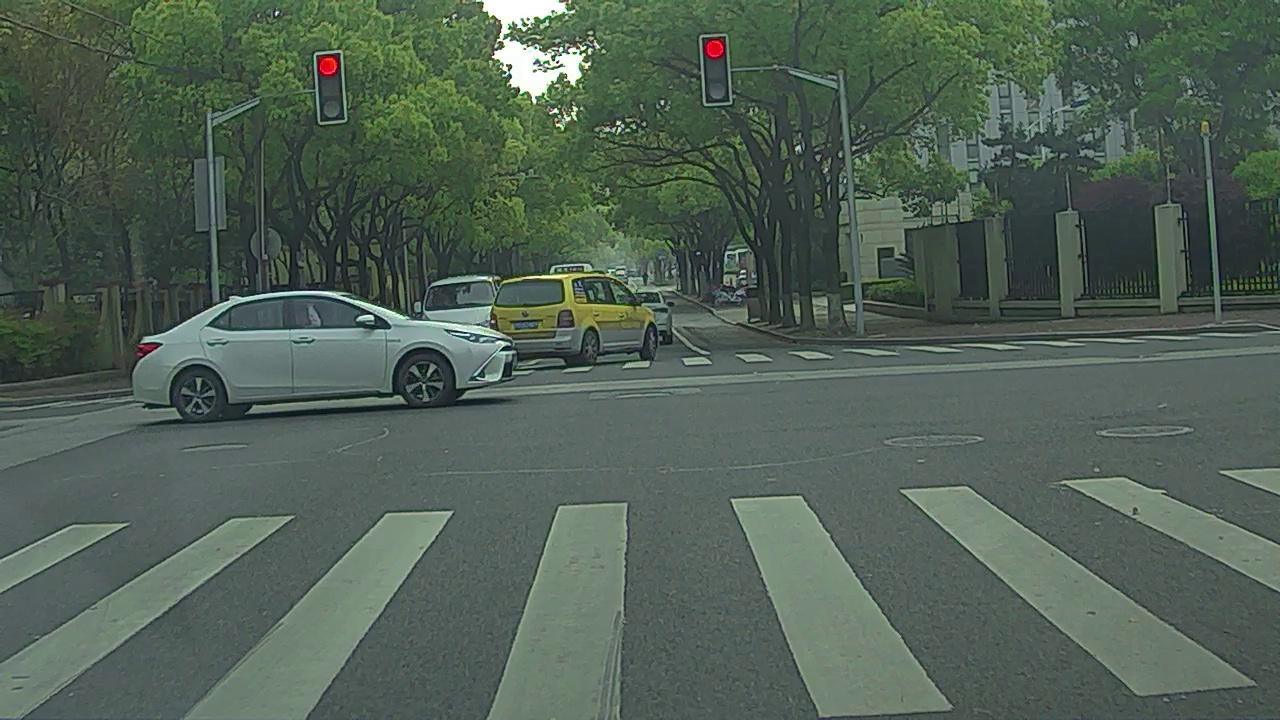traffic_light: (701, 36, 732, 104), (315, 53, 344, 124)
